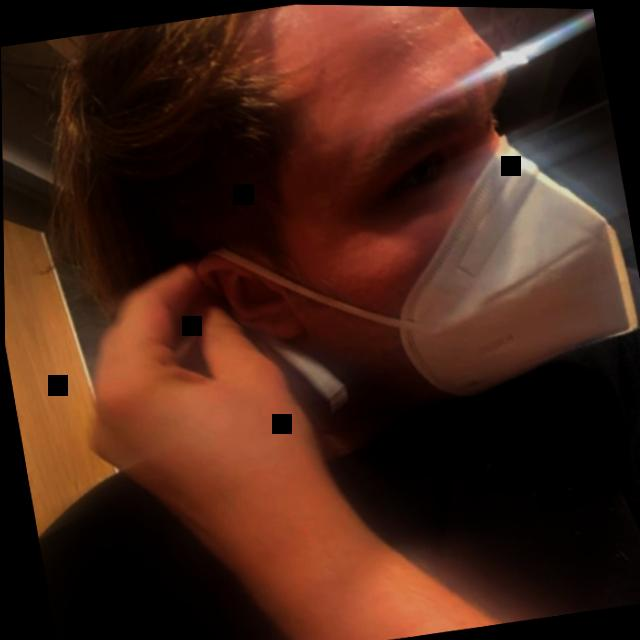Mask: (72, 1, 640, 433)
